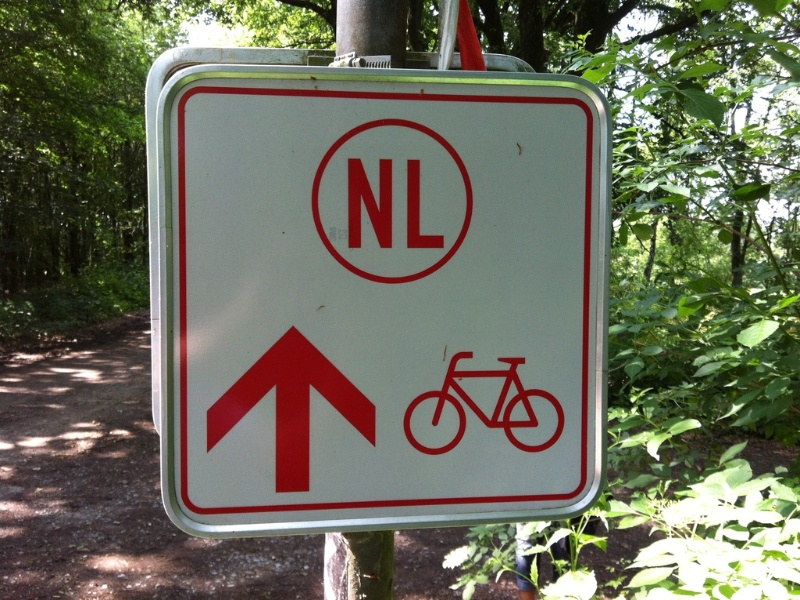cycle_route_ahead: (395, 346, 569, 461)
straight_direction: (203, 323, 377, 500)
